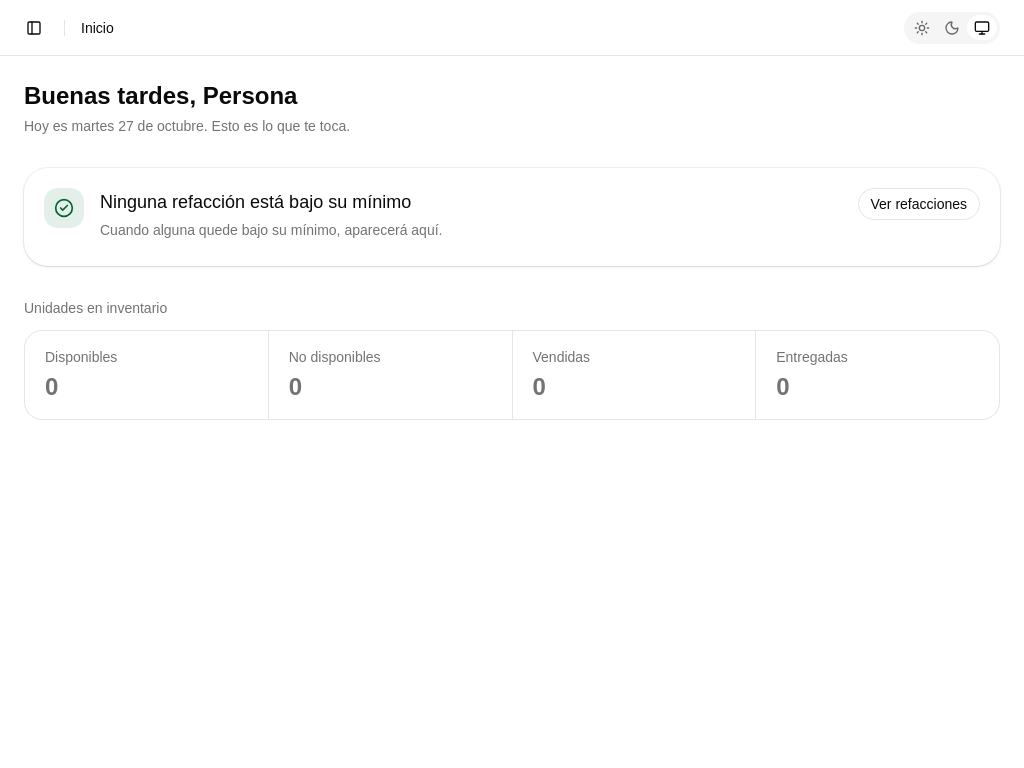
it: Inventario en el celular › abre el menú lateral como Sheet y lo cierra al elegir una sección
Click the button named "Mostrar u ocultar el menú": (34, 28) 20,14 -> 48,42
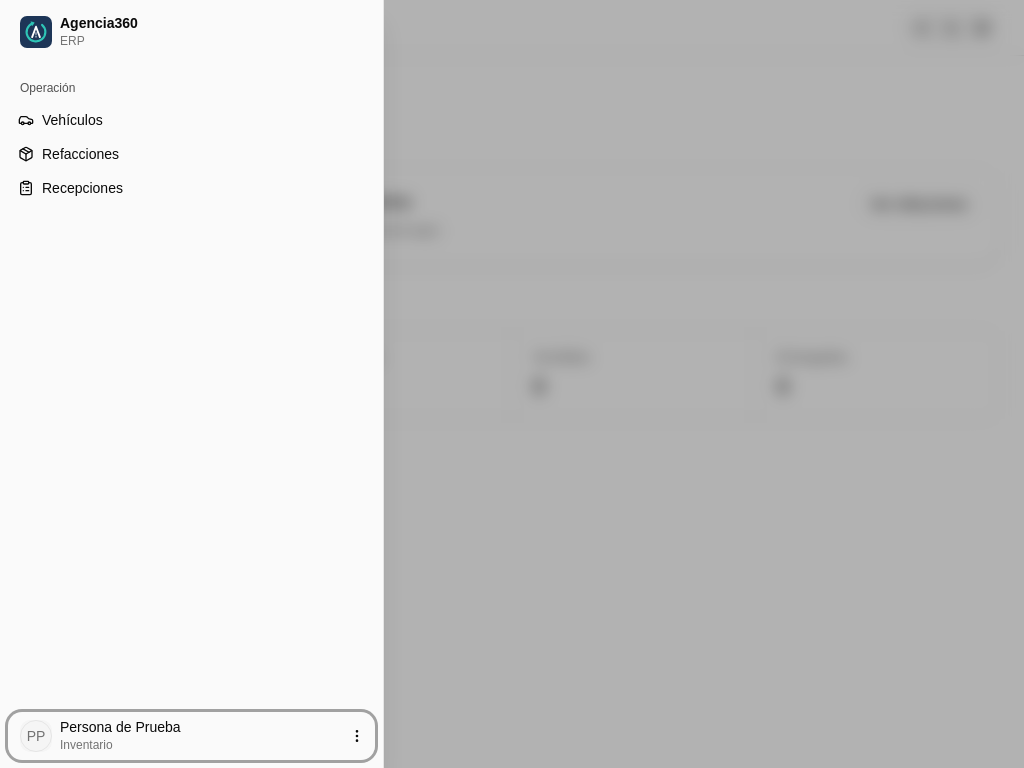
Click the link "Refacciones": (68, 154) 18,146 -> 119,162
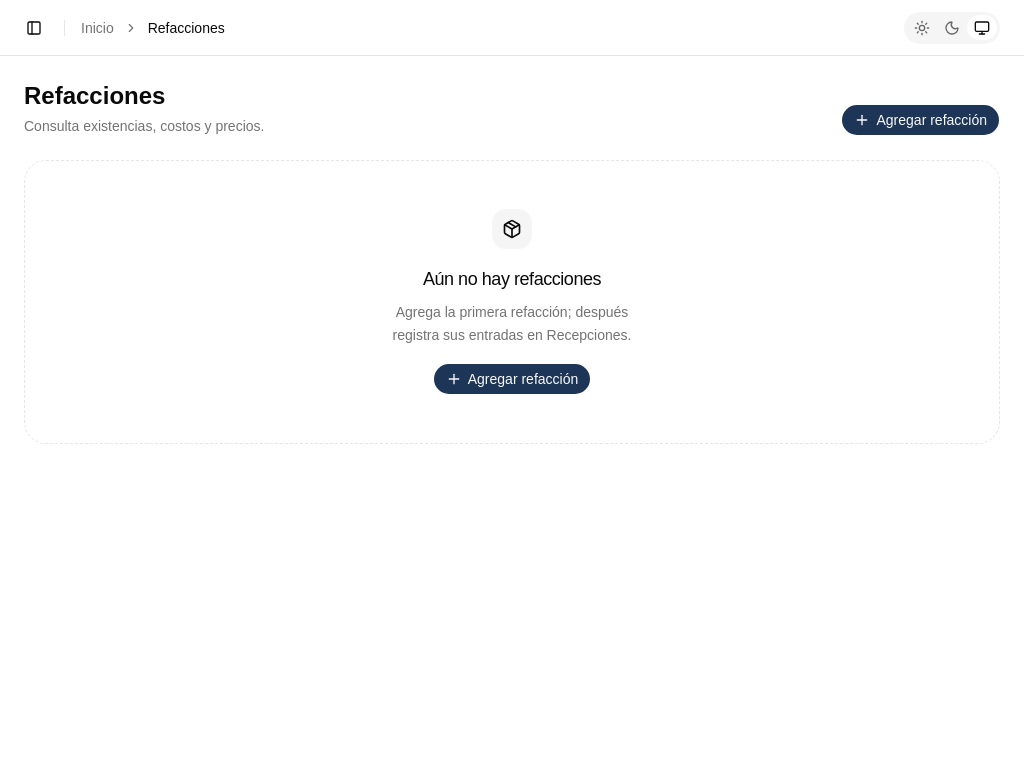
Expected: the text "Aún no hay refacciones" is shown, 423,265 -> 601,293
Expected: the navigation bar "Principal" is gone
